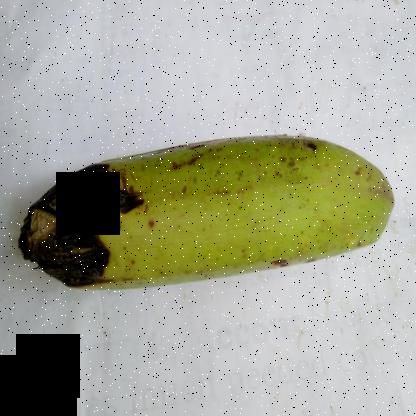unripe: (148, 129, 400, 294)
